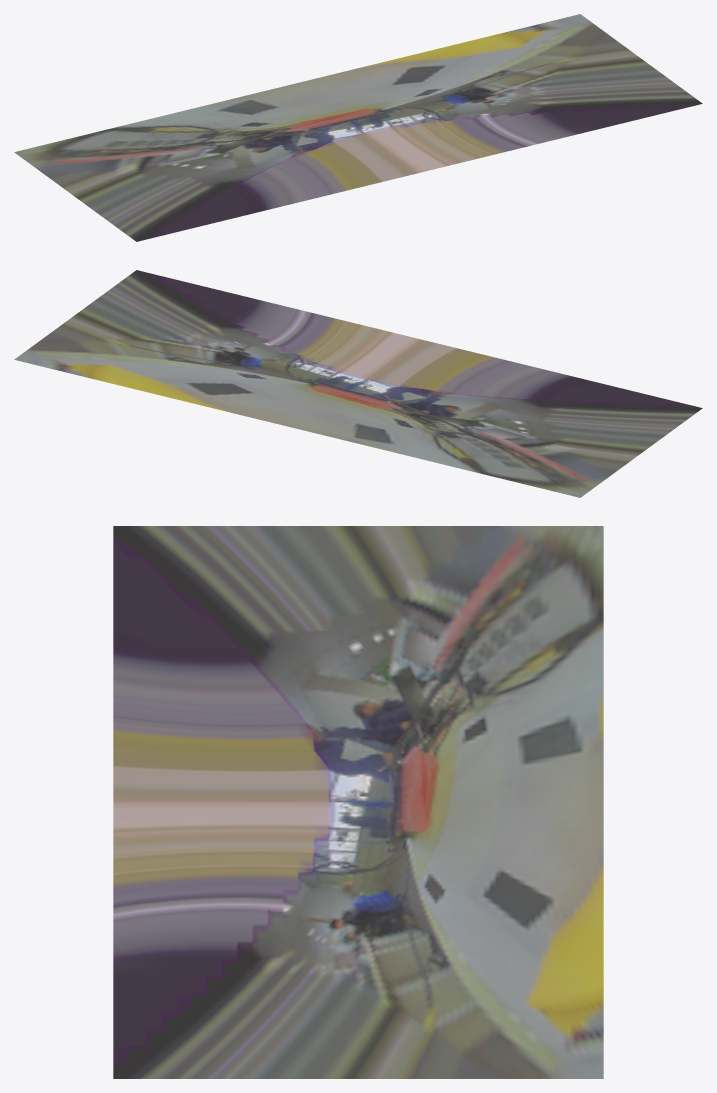
The model's file is plane_single.gltf.
3 renders of one model, top to bottom at view 1: azimuth 30°, elevation 25°; view 2: azimuth 150°, elevation 25°; view 3: azimuth 270°, elevation 25°, orthographic. The views are drawn at different scales.
Parts seen in each view (by area): view 1: rear_wide; view 2: rear_wide; view 3: rear_wide.
Part boxes in pixels (x1,y1,x2,y2): rear_wide: (14, 14, 702, 241); rear_wide: (14, 270, 702, 497); rear_wide: (113, 526, 603, 1078).
Bounding box in the file's own units: 19.2 × 0 × 7.2.
Materials: 1 (1 with a texture image).
